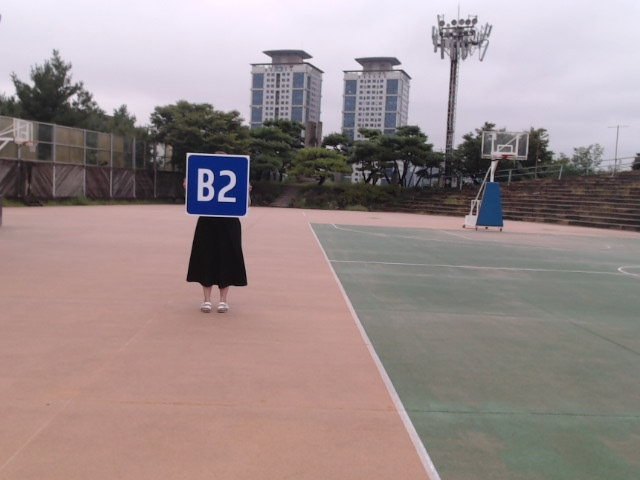delivery_b2: (186, 154, 249, 217)
